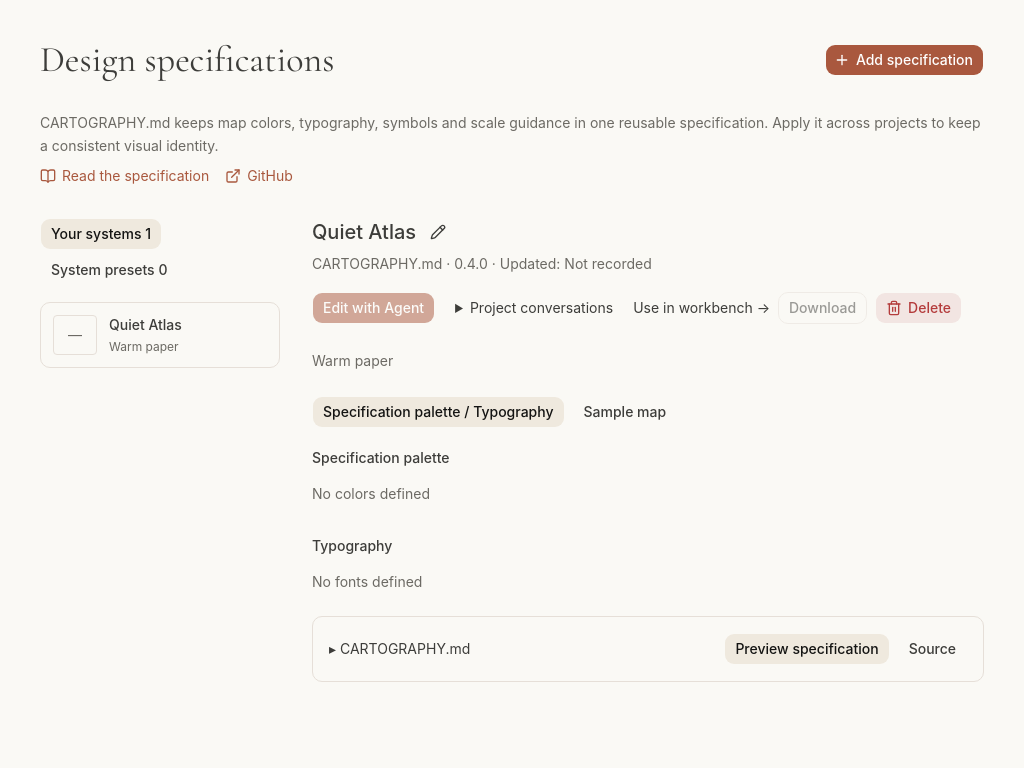
renames a specification in the title and library without changing its identity
Click the button named "Rename: Quiet Atlas": {"x": 438, "y": 232} [424, 218, 452, 246]
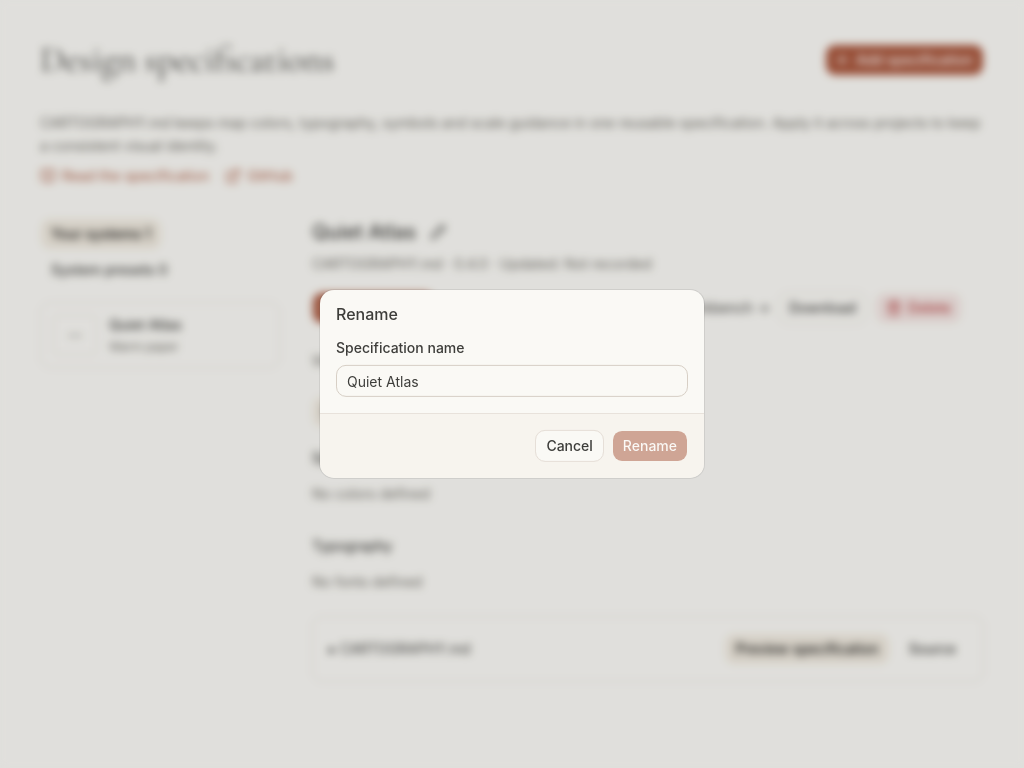
Replace the text in the field labelled "Specification name" with " Renamed Atlas ": {"x": 512, "y": 381} [336, 365, 688, 397]
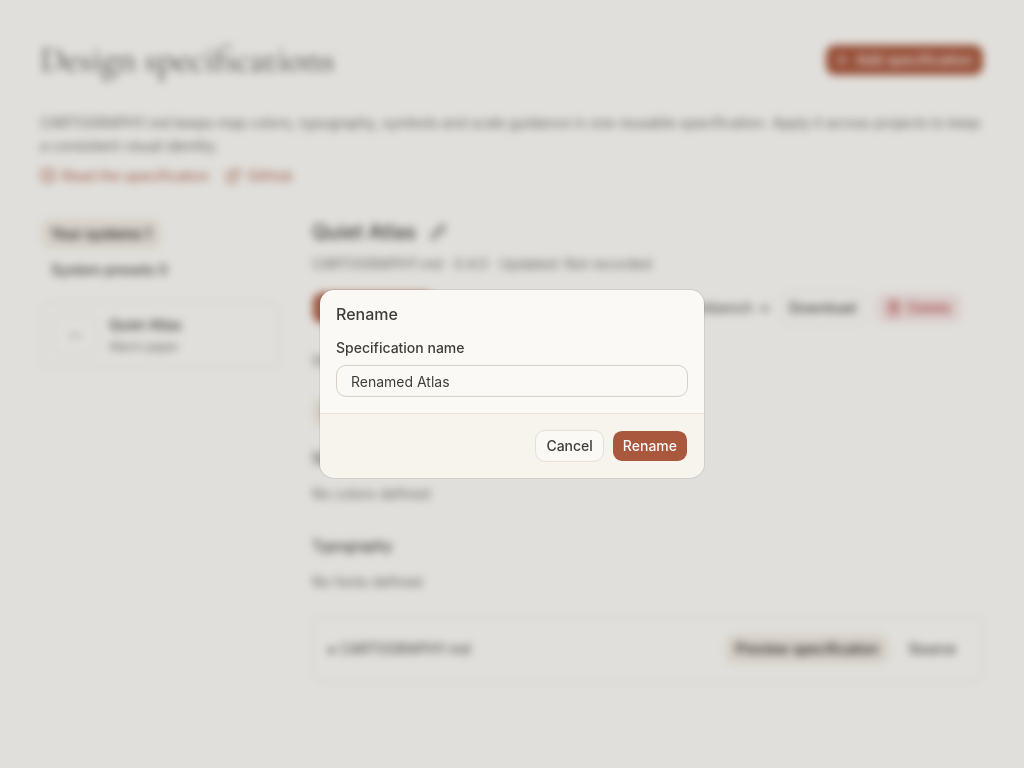
Click the button "Rename": {"x": 650, "y": 446} [612, 430, 688, 462]
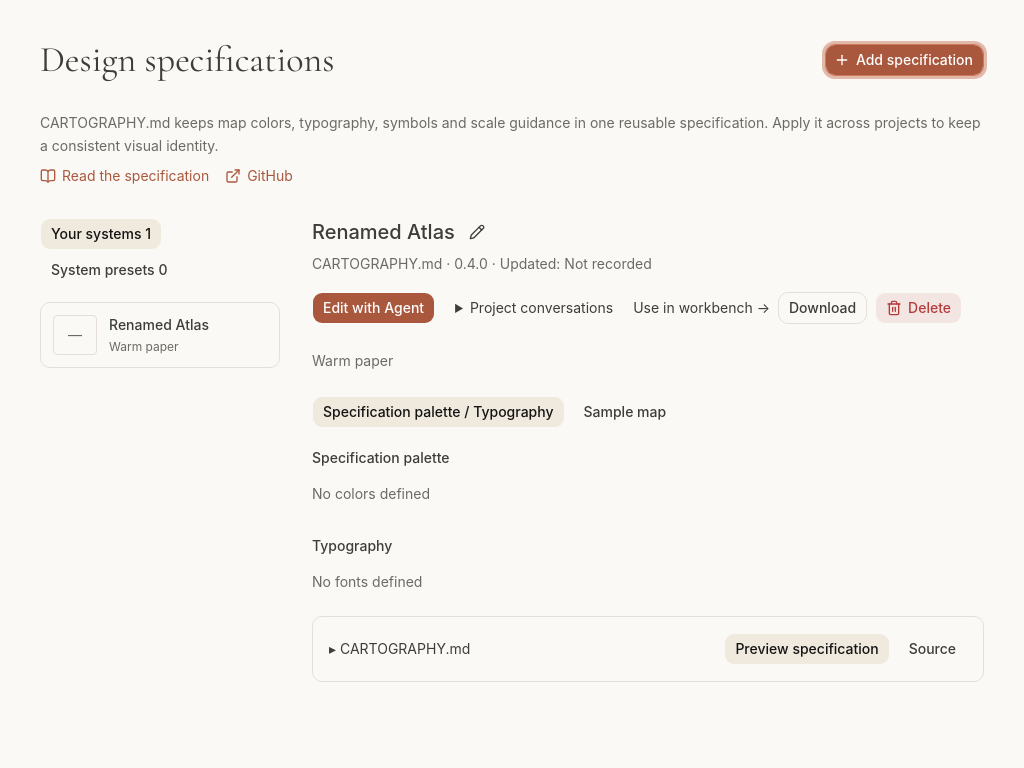
expect the heading "Renamed Atlas" is shown: met, box [312, 218, 455, 246]
expect the button with aria-label "Preview specification: Renamed Atlas" is shown: met, box [40, 302, 280, 368]
